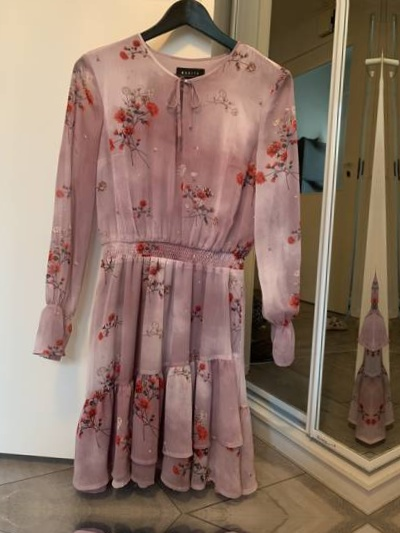Dress: (18, 24, 342, 485)
